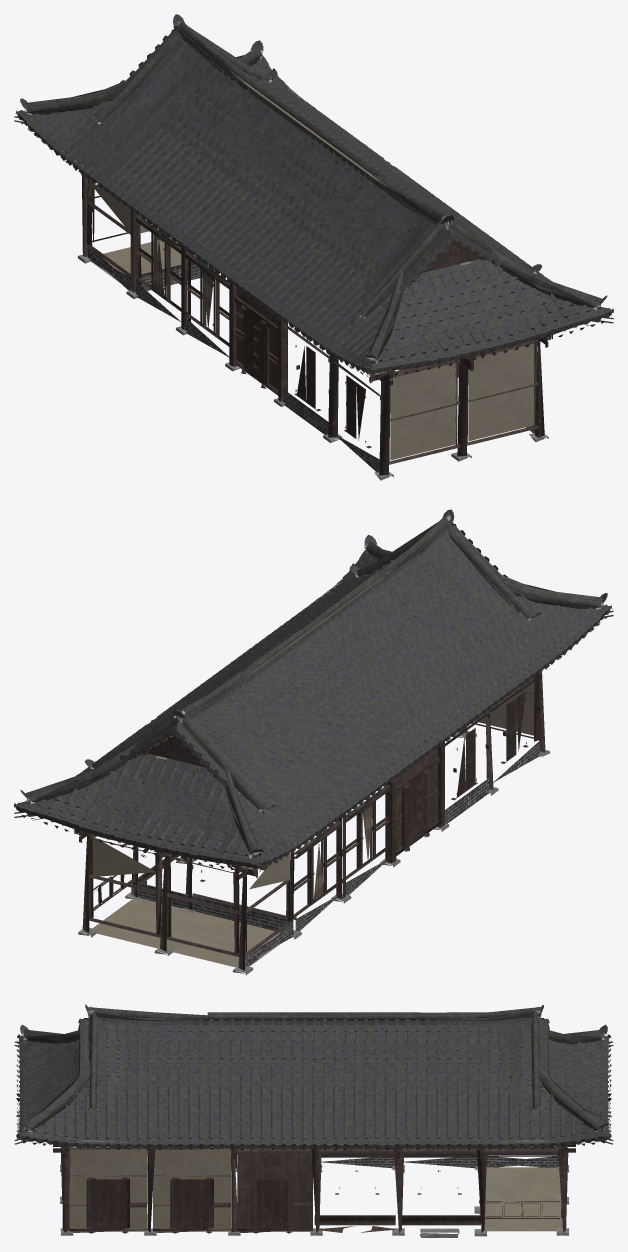
The model's file is giwa_nongga.glb.
3 views of the same model, one above another, from view 1: azimuth 30°, elevation 25°; view 2: azimuth 150°, elevation 25°; view 3: azimuth 270°, elevation 25° (orthographic). The views are drawn at different scales.
Parts seen in each view (by area): view 1: Agricultural_Equipment_Exhibition_Hall_Roof_Concrete_01_0.00 (×4), Agricultural_Equipment_Exhibition_Hall; view 2: Agricultural_Equipment_Exhibition_Hall_Roof_Concrete_01_0.00 (×5), Agricultural_Equipment_Exhibition_Hall; view 3: Agricultural_Equipment_Exhibition_Hall, Agricultural_Equipment_Exhibition_Hall_Roof_Concrete_01_0.00 (×4).
Part boxes in pixels (<box>): Agricultural_Equipment_Exhibition_Hall_Roof_Concrete_01_0.00 (×4): <box>15,14,613,374</box>; Agricultural_Equipment_Exhibition_Hall: <box>14,17,613,480</box>; Agricultural_Equipment_Exhibition_Hall_Roof_Concrete_01_0.00 (×5): <box>14,509,612,869</box>; Agricultural_Equipment_Exhibition_Hall: <box>14,513,613,975</box>; Agricultural_Equipment_Exhibition_Hall: <box>14,1007,613,1237</box>; Agricultural_Equipment_Exhibition_Hall_Roof_Concrete_01_0.00 (×4): <box>16,1004,611,1149</box>.
Size of the model in its own units: 9.97 by 9.03 by 24.95.
Materials: 9 (9 with a texture image).
